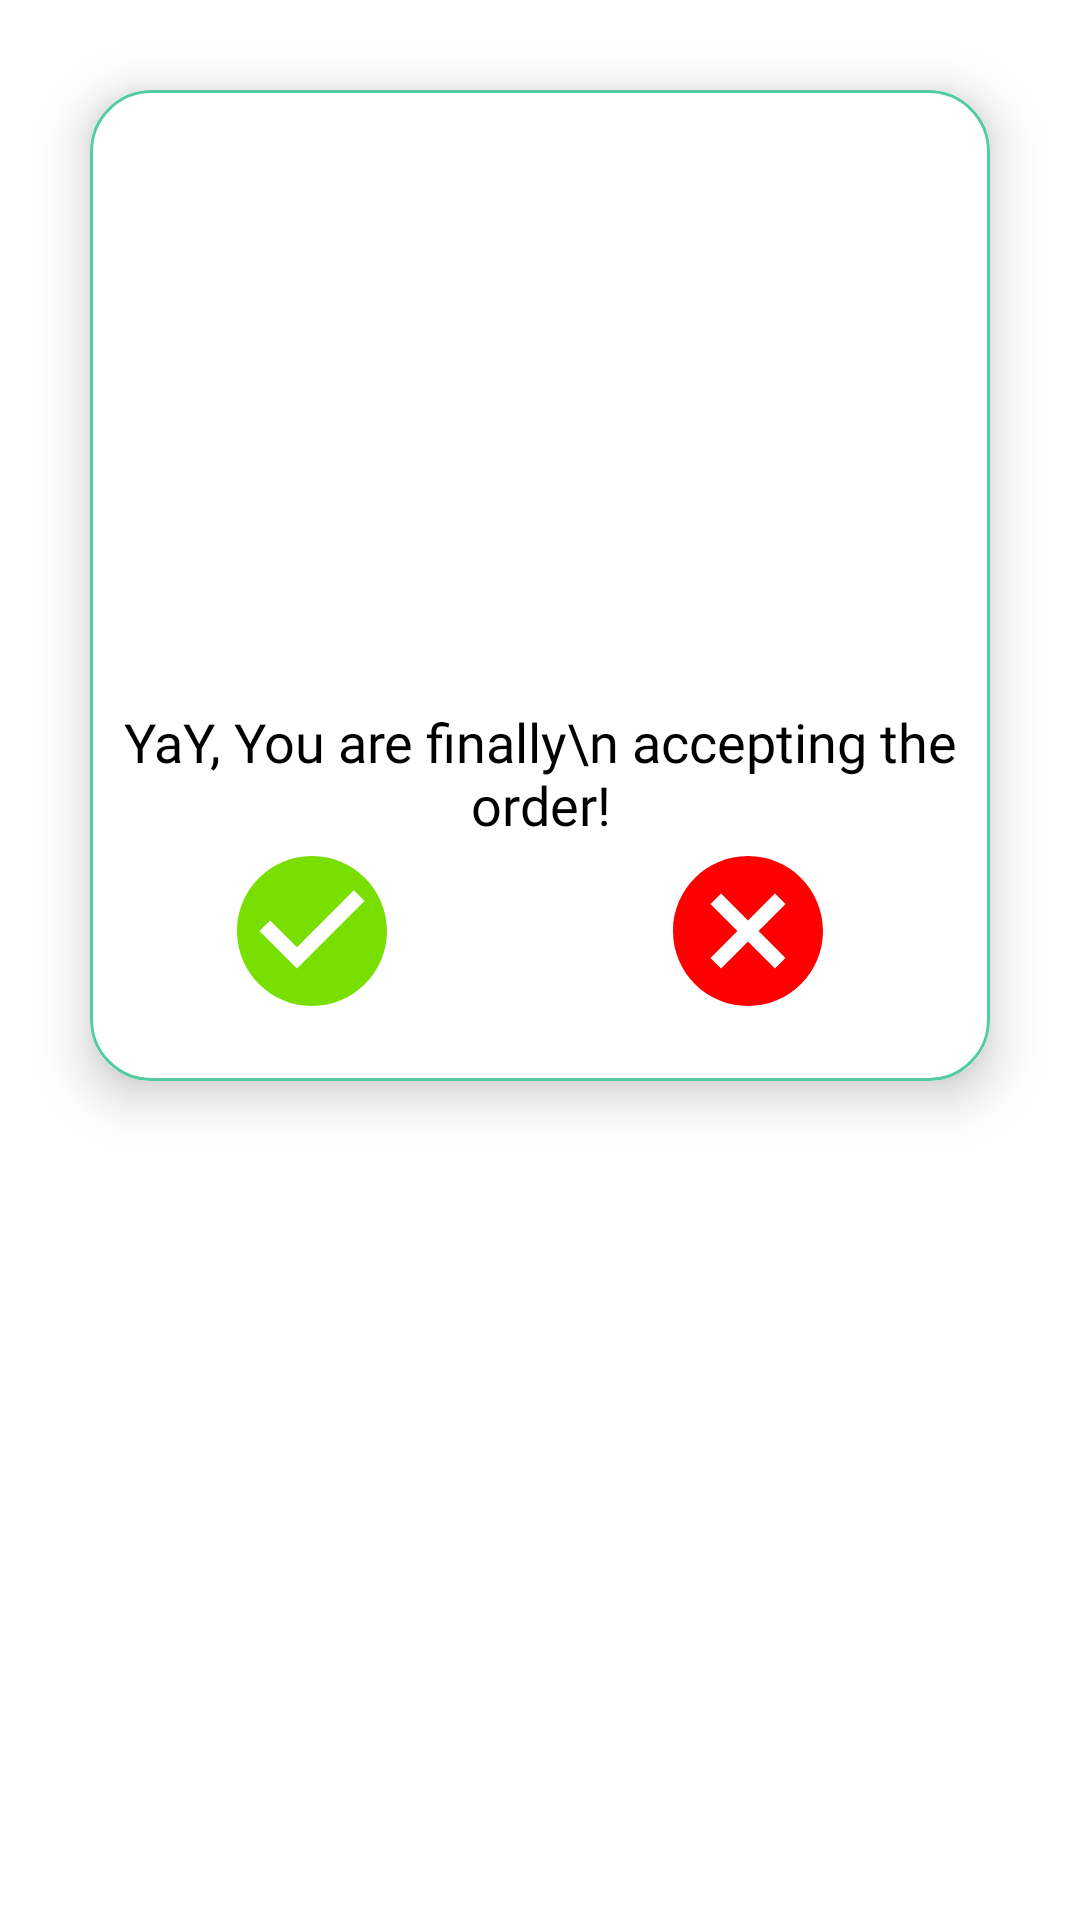

Icons on this 1080x1920 Android screen, each with its box as [x1, y1, x2, y2]:
cancel: [673, 856, 823, 1006]
right: [237, 856, 387, 1006]
